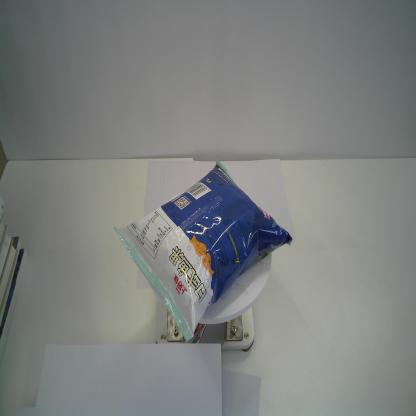Puffed Food: (113, 158, 293, 343)
